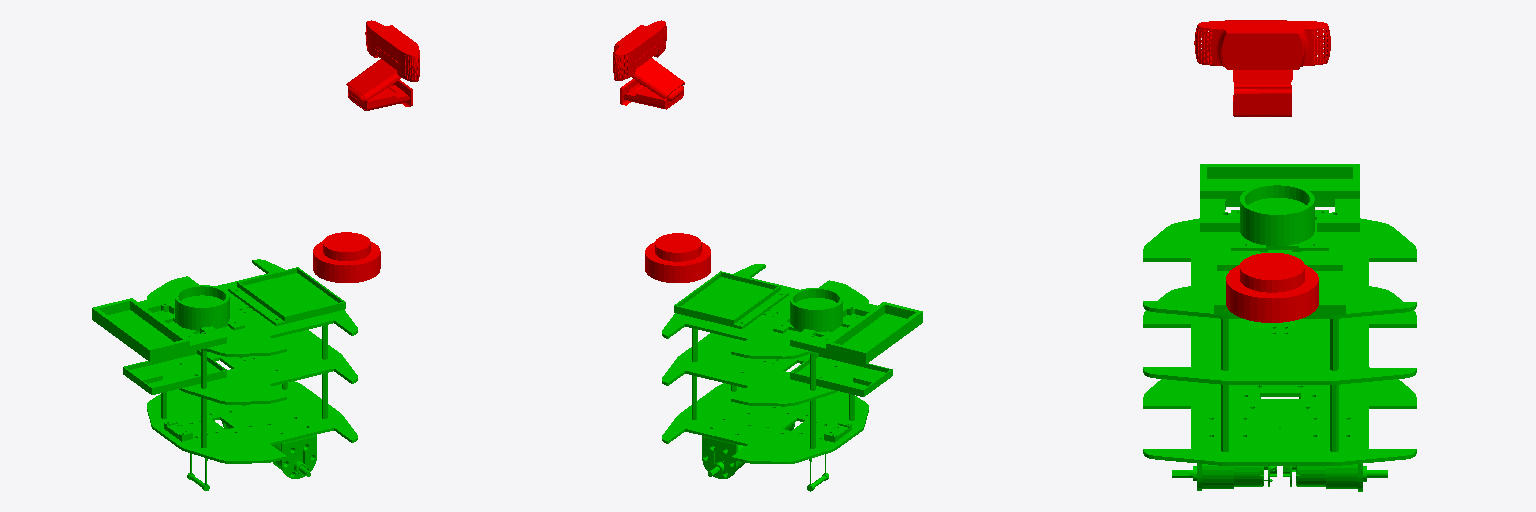
URDF robot description (description):
<?xml version="1.0" encoding="utf-8"?>
<!-- This URDF was automatically created by SolidWorks to URDF Exporter! Originally created by [author] ([email redacted]) 
     Commit Version: 1.6.0-1-g15f4949  Build Version: 1.6.7594.29634
     For more information, please see http://wiki.ros.org/sw_urdf_exporter -->
<robot
  name="description">


 <link name="base_footprint"/>

  <joint name="base_joint" type="fixed">
    <parent link="base_footprint"/>
    <child link="base_link"/>
    <origin xyz="0.0 0.0 0" rpy="0 0 1.57"/>
  </joint>
  <link
    name="base_link">
    <inertial>
      <origin
        xyz="0.00023692 0.21917 -0.10631"
        rpy="0 0 0" />
      <mass
        value="5.6969" />
      <inertia
        ixx="0.064224"
        ixy="-1.3298E-07"
        ixz="4.0684E-05"
        iyy="0.1029"
        iyz="0.00031114"
        izz="0.048325" />
    </inertial>
    <visual>
      <origin
        xyz="0 0 0"
        rpy="0 0 0" />
      <geometry>
        <mesh
          filename="package://description/meshes/base_link.STL" />
      </geometry>
      <material
        name="">
        <color
          rgba="0 0.81961 0 1" />
      </material>
    </visual>
    <collision>
      <origin
        xyz="0 0 0"
        rpy="0 0 0" />
      <geometry>
        <mesh
          filename="package://description/meshes/base_link.STL" />
      </geometry>
    </collision>
  </link>
  <link
    name="camera_link">
    <inertial>
      <origin
        xyz="0.049837 0.044198 0.059634"
        rpy="0 0 0" />
      <mass
        value="0.084224" />
      <inertia
        ixx="1.3967E-05"
        ixy="-8.8446E-10"
        ixz="-1.0097E-09"
        iyy="3.636E-05"
        iyz="-1.5815E-06"
        izz="3.0481E-05" />
    </inertial>
    <visual>
      <origin
        xyz="0 0 0"
        rpy="0 0 0" />
      <geometry>
        <mesh
          filename="package://description/meshes/camera_link.STL" />
      </geometry>
      <material
        name="">
        <color
          rgba="1 0 0 1" />
      </material>
    </visual>
    <collision>
      <origin
        xyz="0 0 0"
        rpy="0 0 0" />
      <geometry>
        <mesh
          filename="package://description/meshes/camera_link.STL" />
      </geometry>
    </collision>
  </link>
  <joint
    name="camera_joint"
    type="fixed">
    <origin
      xyz="-0.056159 -0.069676 0.34735"
      rpy="1.5478 0 0" />
    <parent
      link="base_link" />
    <child
      link="camera_link" />
    <axis
      xyz="0 0 0" />
  </joint>
  <link
    name="lidar_link">
    <inertial>
      <origin
        xyz="-0.00016329 0.0005724 0.12219"
        rpy="0 0 0" />
      <mass
        value="0.18368" />
      <inertia
        ixx="6.7746E-05"
        ixy="-3.5606E-07"
        ixz="2.9723E-08"
        iyy="6.732E-05"
        iyz="-1.6764E-08"
        izz="0.000122" />
    </inertial>
    <visual>
      <origin
        xyz="0 0 0"
        rpy="0 0 0" />
      <geometry>
        <mesh
          filename="package://description/meshes/lidar_link.STL" />
      </geometry>
      <material
        name="">
        <color
          rgba="1 0 0 1" />
      </material>
    </visual>
    <collision>
      <origin
        xyz="0 0 0"
        rpy="0 0 0" />
      <geometry>
        <mesh
          filename="package://description/meshes/lidar_link.STL" />
      </geometry>
    </collision>
  </link>
  <joint
    name="lidar_joint"
    type="fixed">
    <origin
      xyz="0.00072357 -0.084809 0.1763"
      rpy="0 3.14 1.57" />
    <parent
      link="base_link" />
    <child
      link="lidar_link" />
    <axis
      xyz="0 0 0" />
  </joint>
 <!--  <link
    name="wheel_R_link">
    <inertial>
      <origin
        xyz="-5.5511E-17 0 -6.6266E-16"
        rpy="0 0 0" />
      <mass
        value="0.29729" />
      <inertia
        ixx="0.0003148"
        ixy="-4.9727E-20"
        ixz="9.5734E-36"
        iyy="0.00059864"
        iyz="-3.7036E-20"
        izz="0.0003148" />
    </inertial>
    <visual>
      <origin
        xyz="0 0 0"
        rpy="0 0 0" />
      <geometry>
        <mesh
          filename="package://description/meshes/wheel_R_link.STL" />
      </geometry>
      <material
        name="">
        <color
          rgba="0 0 0 1" />
      </material>
    </visual>
    <collision>
      <origin
        xyz="0 0 0"
        rpy="0 0 0" />
      <geometry>
        <mesh
          filename="package://description/meshes/wheel_R_link.STL" />
      </geometry>
    </collision>
  </link>
  <joint
    name="wheel_R_joint"
    type="continuous">
    <origin
      xyz="-0.18912 0 0.10806"
      rpy="1.5708 1.5708 0" />
    <parent
      link="base_link" />
    <child
      link="wheel_R_link" />
    <axis
      xyz="0 0 0" />
  </joint>
  <link
    name="wheel_L_link">
    <inertial>
      <origin
        xyz="0 0 0"
        rpy="0 0 0" />
      <mass
        value="0" />
      <inertia
        ixx="0"
        ixy="0"
        ixz="0"
        iyy="0"
        iyz="0"
        izz="0" />
    </inertial>
    <visual>
      <origin
        xyz="0 0 0"
        rpy="0 0 0" />
      <geometry>
        <mesh
          filename="package://description/meshes/wheel_L_link.STL" />
      </geometry>
      <material
        name="">
        <color
          rgba="0 0 0 1" />
      </material>
    </visual>
    <collision>
      <origin
        xyz="0 0 0"
        rpy="0 0 0" />
      <geometry>
        <mesh
          filename="package://description/meshes/wheel_L_link.STL" />
      </geometry>
    </collision>
  </link>
  <joint
    name="wheel_L_joint"
    type="continuous">
    <origin
      xyz="0.18912 0 0.10806"
      rpy="1.5708 -1.5708 0" />
    <parent
      link="base_link" />
    <child
      link="wheel_L_link" />
    <axis
      xyz="0 0 0" />
  </joint> -->
</robot>

--- Render facts (derived) ---
3 views of the same robot in one strip: view 1: azimuth 30°, elevation 25°; view 2: azimuth 150°, elevation 25°; view 3: azimuth 270°, elevation 25° (orthographic).
Model description with 4 links and 3 joints (3 fixed), rooted at base_footprint, posed all joints at 0.
Links seen in each view (by area): view 1: base_link, camera_link, lidar_link; view 2: base_link, camera_link, lidar_link; view 3: base_link, camera_link, lidar_link.
Link boxes in pixels (<box>): base_link: <box>92,259,357,490</box>; camera_link: <box>346,20,419,110</box>; lidar_link: <box>313,232,380,282</box>; base_link: <box>662,264,922,491</box>; camera_link: <box>613,20,684,109</box>; lidar_link: <box>645,233,710,282</box>; base_link: <box>1143,164,1416,491</box>; camera_link: <box>1194,20,1330,116</box>; lidar_link: <box>1226,253,1318,322</box>.
Size in the robot's own frame: 0.3254 by 0.2001 by 0.451 metres.
3 mesh visuals loaded from 3 distinct referenced files (3 binary STL).
